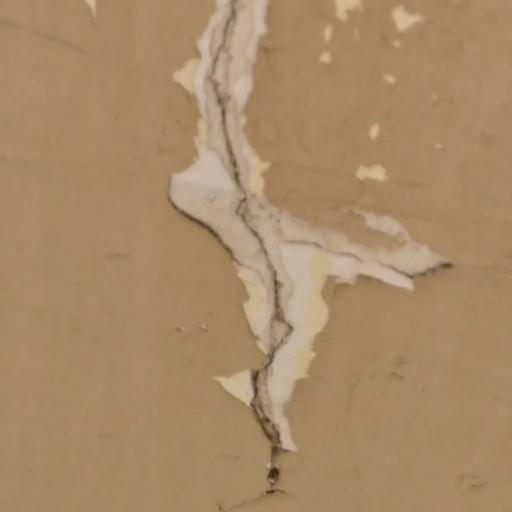peeling: (144, 0, 468, 512)
